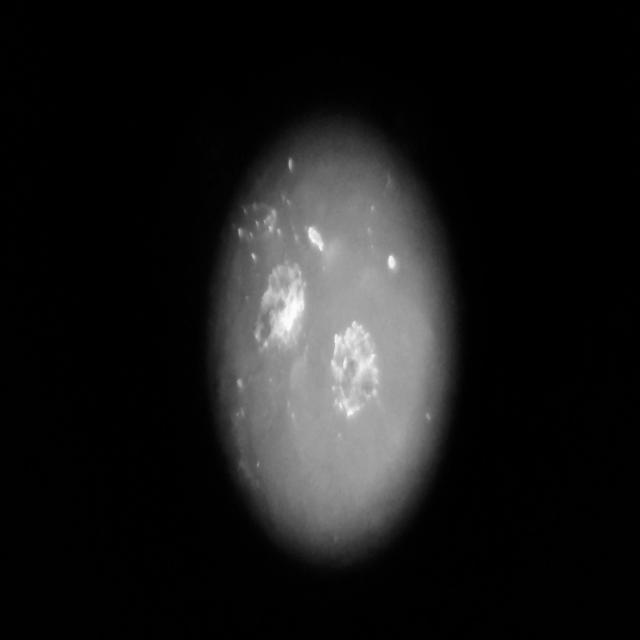alexandrium: (242, 243, 316, 367), (332, 309, 386, 429)
